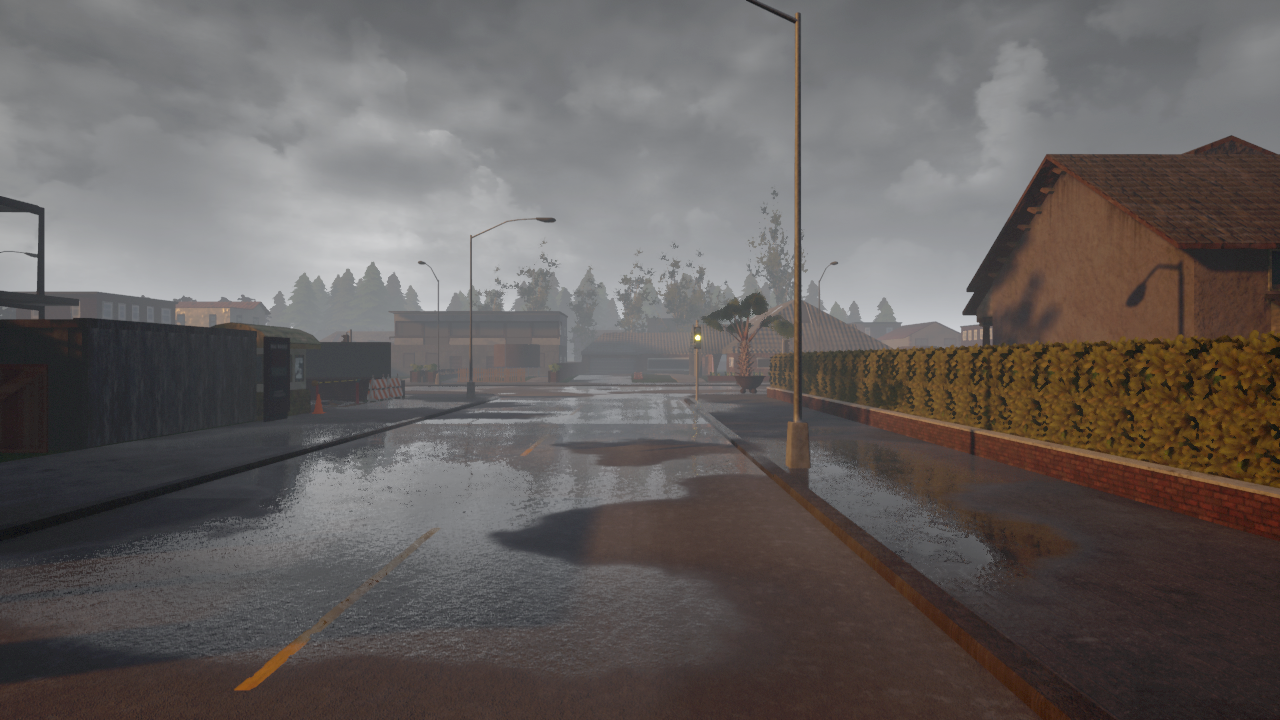yellow: (692, 327, 702, 350)
